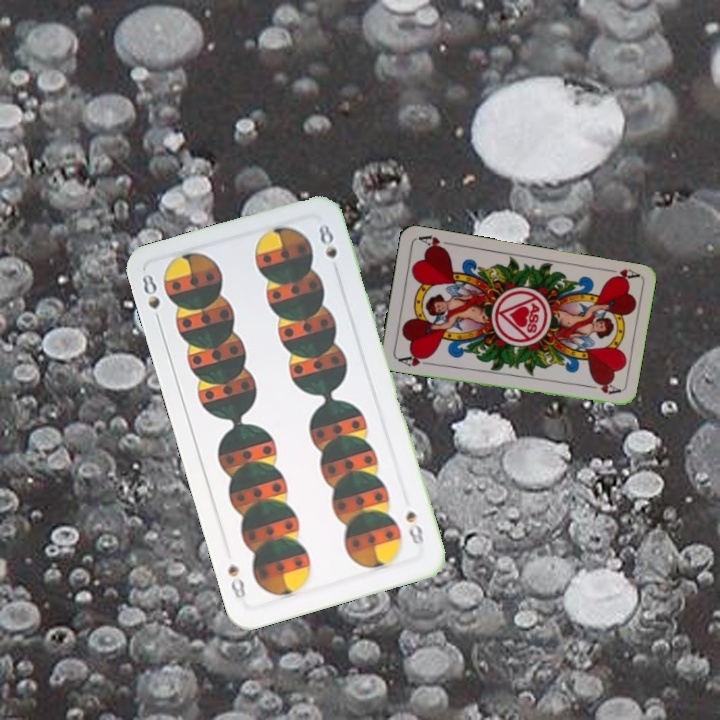HA: (600, 264, 641, 285), (394, 350, 434, 369)
S8: (138, 270, 164, 328), (401, 507, 427, 547)
